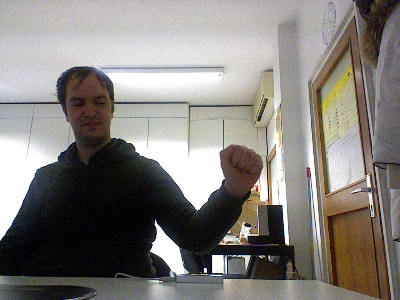石头: (219, 144, 263, 188)
